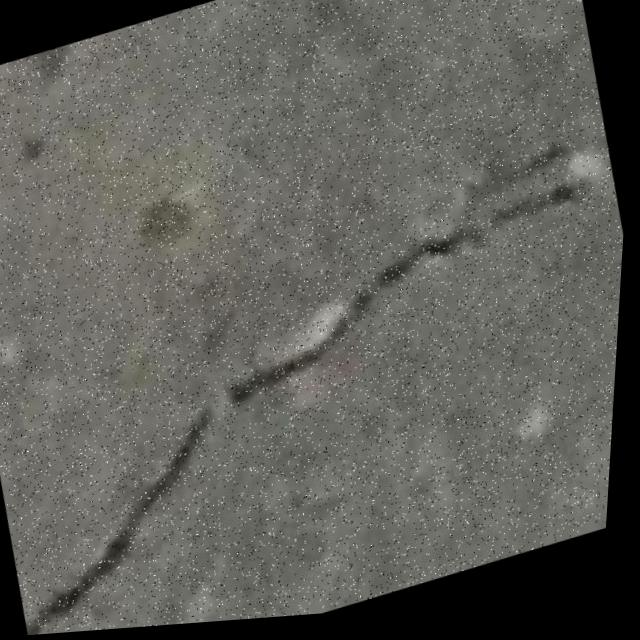Crack: (0, 136, 632, 640)
